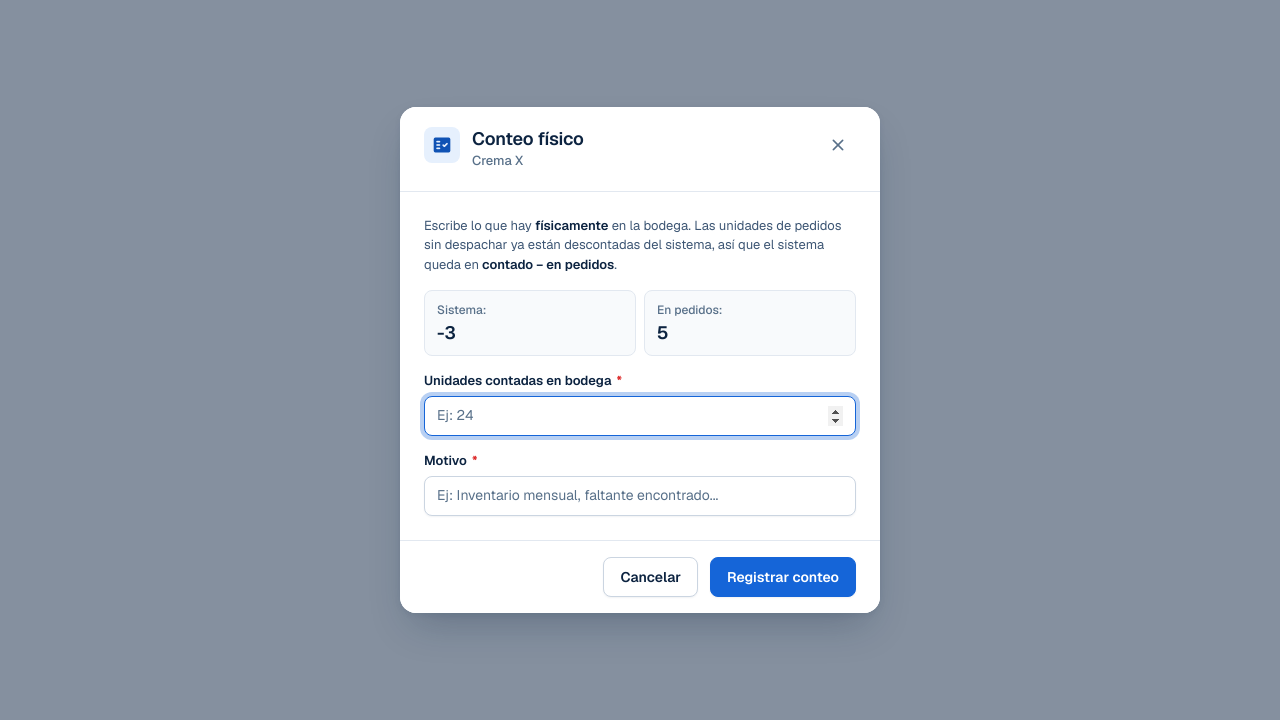
muestra el mensaje del servidor si el conteo se rechaza
This screenshot has width=1280, height=720.
Type "0" into the number field labelled "Unidades contadas en bodega *".
click(640, 416); type("0")  # box [424,396,856,436]
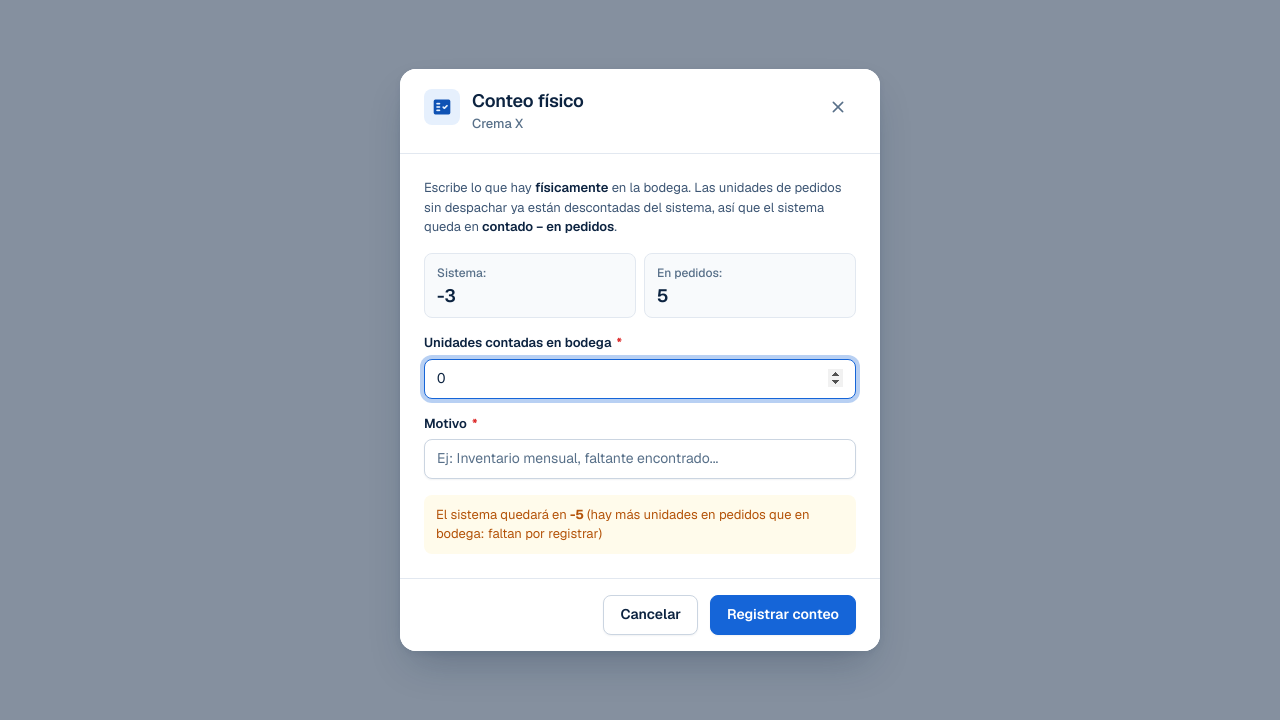
Type "Se dañó" into the field labelled "Motivo *".
click(640, 459); type("Se dañó")  # box [424,439,856,479]
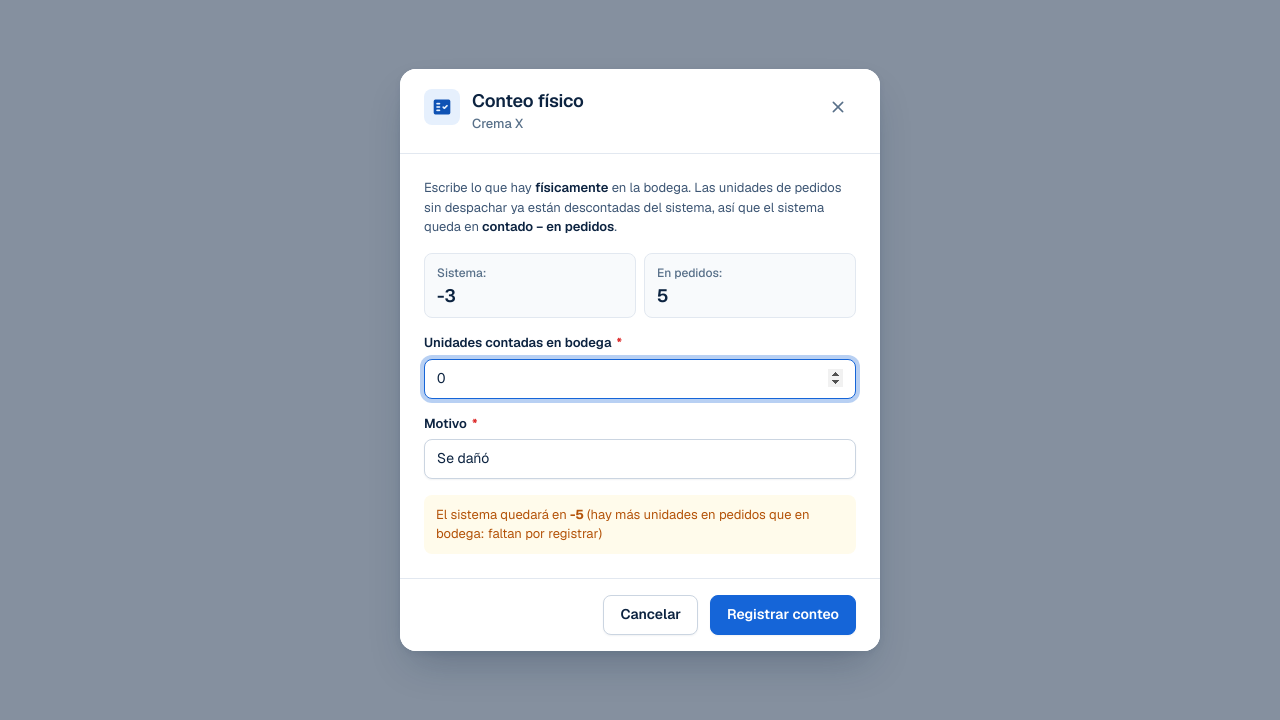
Click the button "Registrar conteo".
click(783, 615)  # box [710,595,856,635]
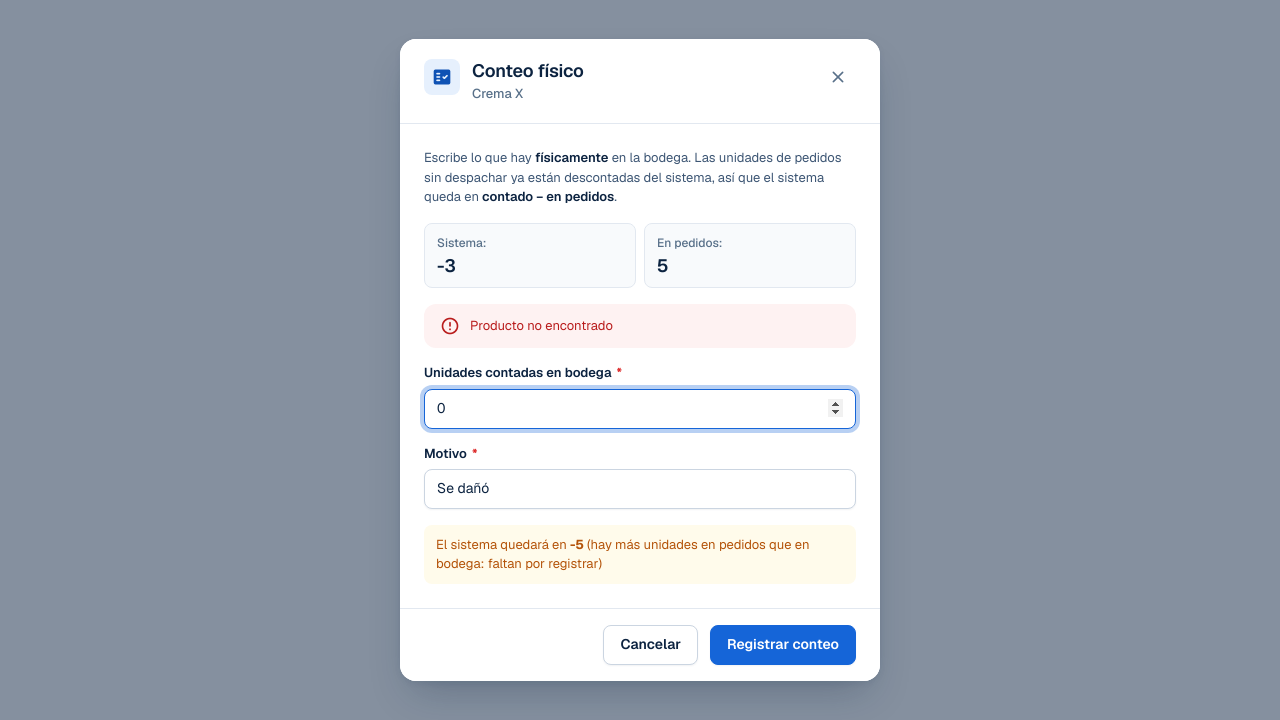
Expected: the message reads "Producto no encontrado", [470,317,613,334]
